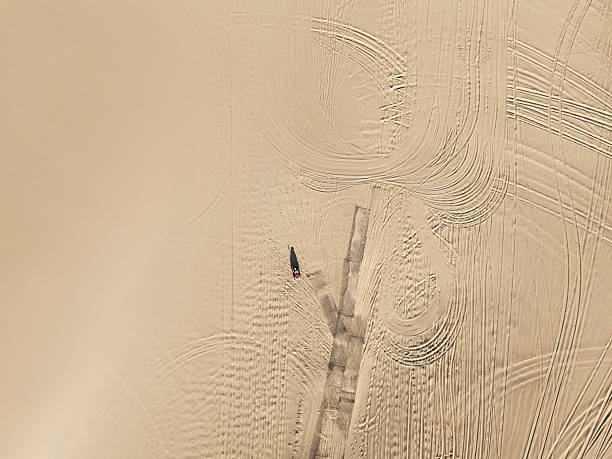vehicle_track: (214, 38, 296, 458), (525, 11, 587, 453), (283, 15, 429, 180), (424, 6, 527, 230), (366, 198, 467, 367), (577, 112, 611, 329), (569, 344, 611, 458)
